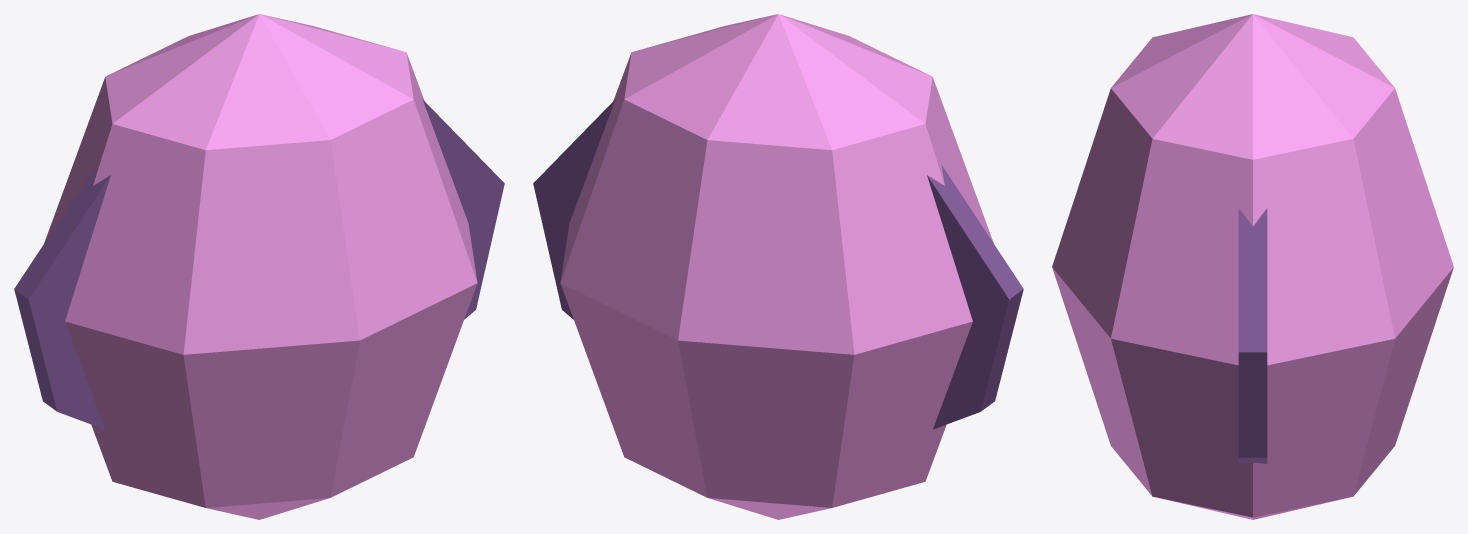
File: hostile_core_02.glb
3 views of the same model, side by side, from view 1: azimuth 30°, elevation 25°; view 2: azimuth 150°, elevation 25°; view 3: azimuth 270°, elevation 25° (orthographic).
Parts seen in each view (by area): view 1: hostile_core_02; view 2: hostile_core_02; view 3: hostile_core_02.
Part boxes in pixels (x1,y1,x2,y2): hostile_core_02: [14, 14, 504, 519]; hostile_core_02: [533, 14, 1023, 519]; hostile_core_02: [1052, 14, 1453, 519].
Bounding box in the file's own units: 0.5318 × 0.54 × 0.3888.
